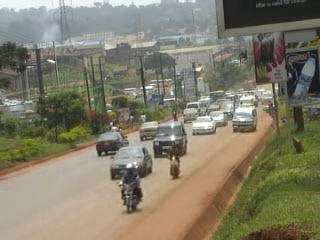Car: (108, 143, 153, 181), (151, 120, 189, 158), (94, 130, 131, 155), (189, 112, 218, 135), (138, 118, 163, 142), (180, 105, 201, 124), (207, 109, 229, 127), (219, 100, 236, 119), (205, 103, 220, 116)
Motorcycle: (116, 161, 145, 215), (164, 142, 186, 179), (108, 120, 122, 135)
